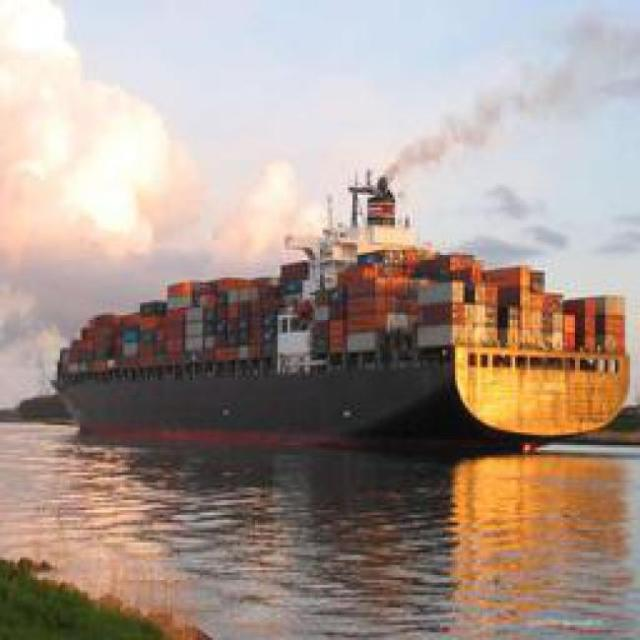boat: (45, 264, 638, 449)
